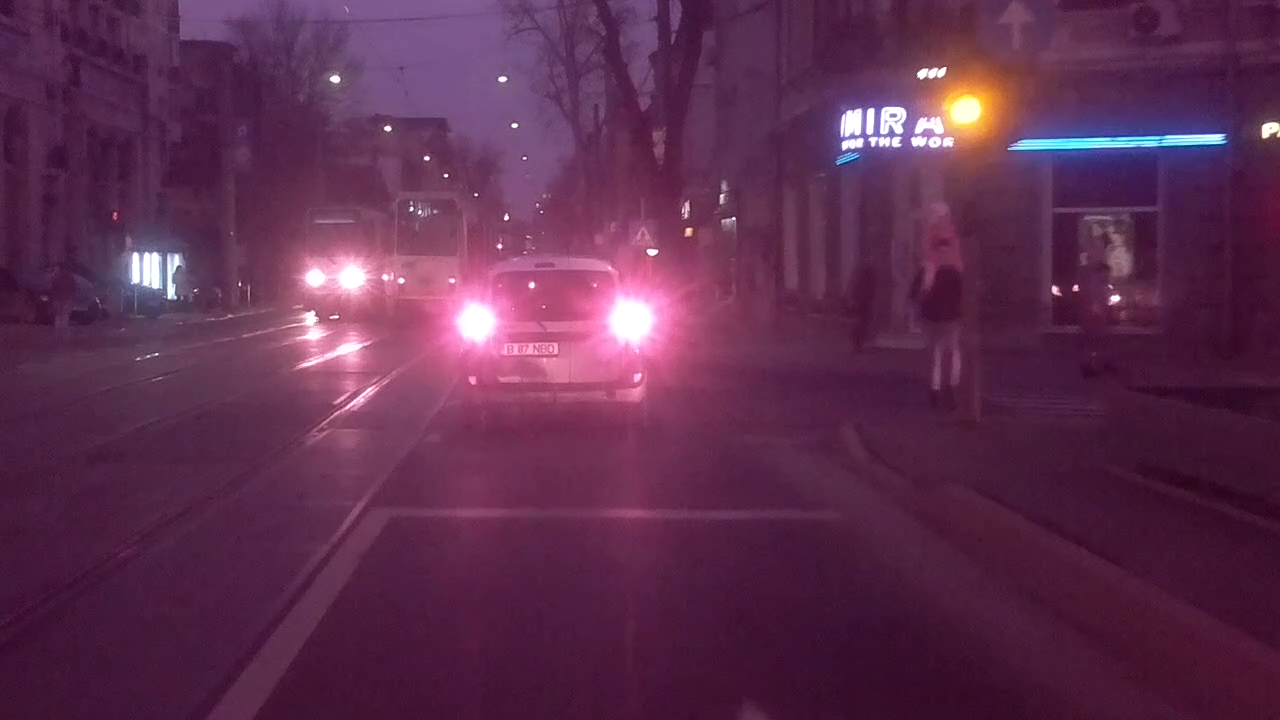license-plate: (498, 339, 562, 358)
